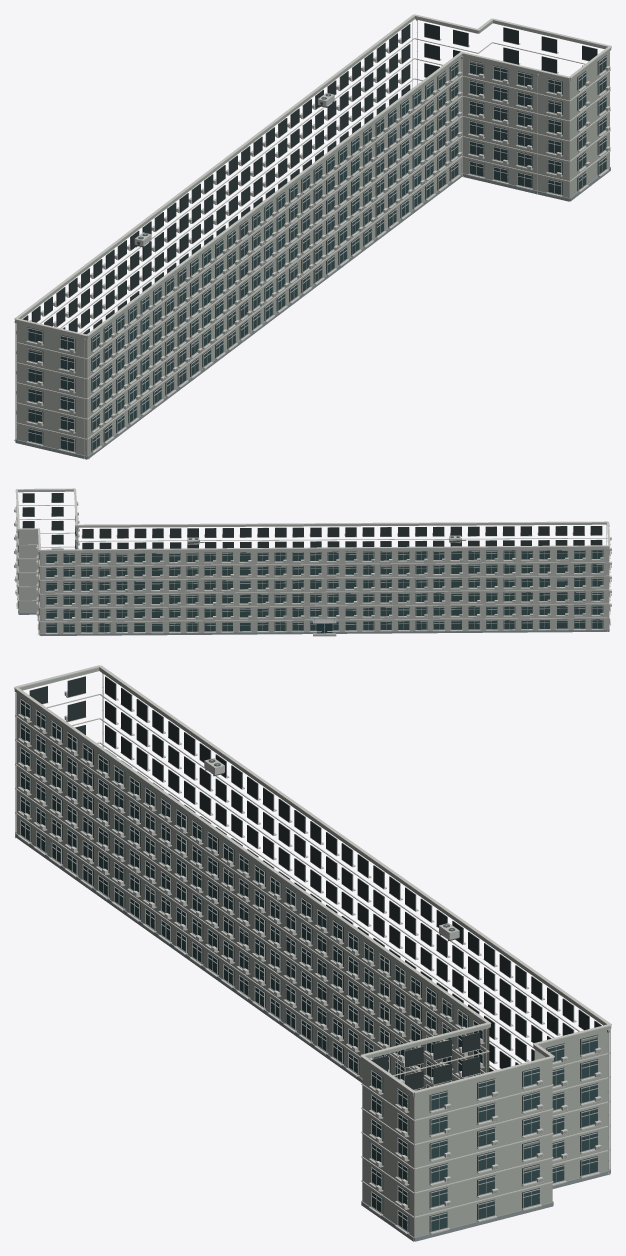
File: osm_way_225253712.glb
The picture shows the model from 3 angles, top to bottom: view 1: azimuth 30°, elevation 25°; view 2: azimuth 150°, elevation 25°; view 3: azimuth 270°, elevation 25°; orthographic projection. The views are drawn at different scales.
Visible parts, largest first — view 1: Windows and facade details | 49, Architecture | 49, Roof services | 49, EXTERIOR::osm_way_225253712::rainwater and roof service deta; view 2: Windows and facade details | 49, Architecture | 49, Roof services | 49, EXTERIOR::osm_way_225253712::rainwater and roof service deta, EXTERIOR::osm_way_225253712::inferred entry doors canopy and, EXTERIOR::osm_way_225253712::native pane seals and hardware; view 3: Windows and facade details | 49, Architecture | 49, Roof services | 49, EXTERIOR::osm_way_225253712::rainwater and roof service deta.
Part boxes in pixels (left/top/right/bottom): Windows and facade details | 49: left=16, top=21, right=610, bottom=458; Architecture | 49: left=15, top=16, right=611, bottom=459; Roof services | 49: left=14, top=14, right=611, bottom=336; EXTERIOR::osm_way_225253712::rainwater and roof service deta: left=14, top=19, right=538, bottom=459; Windows and facade details | 49: left=14, top=493, right=611, bottom=636; Architecture | 49: left=16, top=490, right=609, bottom=635; Roof services | 49: left=15, top=488, right=610, bottom=550; EXTERIOR::osm_way_225253712::rainwater and roof service deta: left=37, top=501, right=609, bottom=634; EXTERIOR::osm_way_225253712::inferred entry doors canopy and: left=312, top=618, right=336, bottom=636; EXTERIOR::osm_way_225253712::native pane seals and hardware: left=56, top=553, right=567, bottom=628; Windows and facade details | 49: left=15, top=676, right=610, bottom=1234; Architecture | 49: left=14, top=668, right=611, bottom=1241; Roof services | 49: left=14, top=665, right=611, bottom=1093; EXTERIOR::osm_way_225253712::rainwater and roof service deta: left=102, top=673, right=609, bottom=1175.
Size of the model in its own units: 121 by 20.58 by 71.59.
